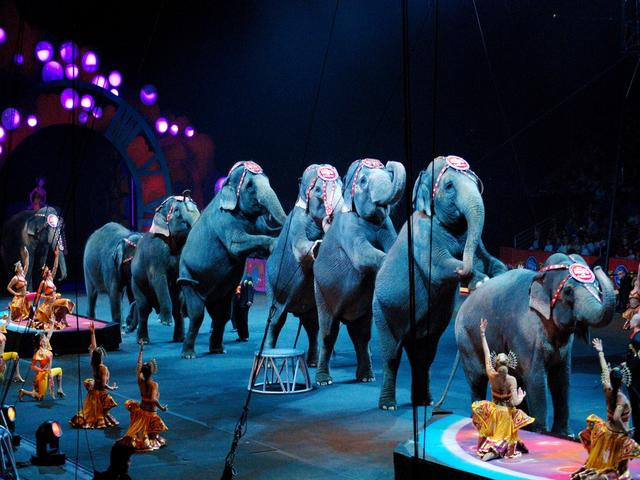elephant: (402, 129, 640, 369), (181, 153, 284, 371)
